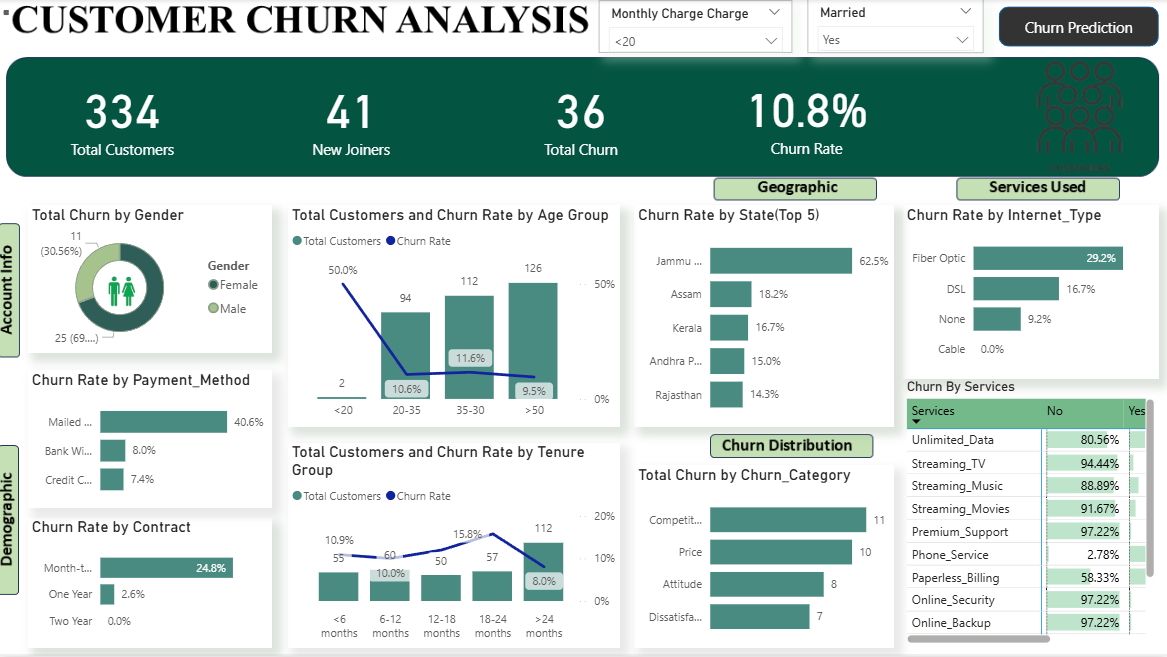

What the dashboard file says about the page in this screenshot:
{"tool":"powerbi","page":{"name":"Summary","canvas":[1280,720],"ordinal":0},"visuals":[{"type":"image","box":[86.3,293,95.8,54.8],"z":0},{"type":"card","fields":{"Values":["TBL_Measures.Total Churn"]},"box":[514.8,65.7,243.7,123.2],"z":1000},{"type":"card","fields":{"Values":["TBL_Measures.New Joiners"]},"box":[254.7,65.7,260.2,123.2],"z":2000},{"type":"actionButton","box":[0,0,13.7,30.1],"z":3000},{"type":"card","fields":{"Values":["TBL_Measures.Churn Rate"]},"box":[758.6,65.7,250.6,121.9],"z":4000},{"type":"donutChart","fields":{"Category":["prod_Churn.Gender"],"Y":["TBL_Measures.Total Churn"]},"box":[30.1,225.9,268.4,161.6],"z":5000},{"type":"card","fields":{"Values":["TBL_Measures.Total Customers"]},"box":[13.7,65.7,241,123.2],"z":6000},{"type":"clusteredBarChart","fields":{"Category":["prod_Churn.Payment_Method"],"Y":["TBL_Measures.Churn Rate"]},"box":[30.1,406.7,268.4,150.6],"z":7000},{"type":"clusteredBarChart","fields":{"Y":["TBL_Measures.Churn Rate"],"Category":["prod_Churn.Contract"]},"box":[30.1,568.3,268.4,142.4],"z":8000},{"type":"lineStackedColumnComboChart","fields":{"Y":["TBL_Measures.Total Customers"],"Category":["mapping_AgeGrp.Age Group"],"Y2":["TBL_Measures.Churn Rate"]},"box":[314.9,225.9,364.2,242.4],"z":9000},{"type":"lineStackedColumnComboChart","fields":{"Y":["TBL_Measures.Total Customers"],"Category":["mapping_TenureGrp.Tenure Group"],"Y2":["TBL_Measures.Churn Rate"]},"box":[314.9,486.1,364.2,224.6],"z":10000},{"type":"clusteredBarChart","title":"Churn Rate by State(Top 5)","fields":{"Category":["prod_Churn.State"],"Y":["TBL_Measures.Churn Rate"]},"box":[694.2,225.9,284.8,242.4],"z":11000},{"type":"clusteredBarChart","fields":{"Category":["prod_Churn.Churn_Category"],"Y":["TBL_Measures.Total Churn"]},"box":[694.2,510.7,284.8,199.9],"z":12000},{"type":"clusteredBarChart","fields":{"Category":["prod_Churn.Internet_Type"],"Y":["TBL_Measures.Churn Rate"]},"box":[988.6,225.9,280.7,190.3],"z":13000},{"type":"pivotTable","title":"Churn By Services","fields":{"Rows":["Prod_Services.Services"],"Columns":["Prod_Services.Status"],"Values":["Sum(Prod_Services.Churn_Status)"]},"box":[988.6,416.3,280.7,294.4],"z":14000},{"type":"slicer","fields":{"Values":["prod_Churn.Monthly Charge Status"]},"box":[655.9,1.4,212.2,57.5],"z":15000},{"type":"slicer","fields":{"Values":["prod_Churn.Married"]},"box":[884.6,0,193.1,58.9],"z":16000},{"type":"shape","box":[1094.1,8.2,175.3,43.8],"z":17000}]}

Visuals, with their boxes in screenshot pixels (x1, y1, x2, y2), scaled from the page's 1280x720 canvas onto the 1167x657 screenshot:
image: BBox(79, 267, 166, 317)
card - TBL_Measures.Total Churn: BBox(469, 60, 692, 172)
card - TBL_Measures.New Joiners: BBox(232, 60, 469, 172)
actionButton: BBox(0, 0, 12, 27)
card - TBL_Measures.Churn Rate: BBox(692, 60, 920, 171)
donutChart - prod_Churn.Gender x TBL_Measures.Total Churn: BBox(27, 206, 272, 354)
card - TBL_Measures.Total Customers: BBox(12, 60, 232, 172)
clusteredBarChart - prod_Churn.Payment_Method x TBL_Measures.Churn Rate: BBox(27, 371, 272, 509)
clusteredBarChart - TBL_Measures.Churn Rate x prod_Churn.Contract: BBox(27, 519, 272, 649)
lineStackedColumnComboChart - TBL_Measures.Total Customers x mapping_AgeGrp.Age Group: BBox(287, 206, 619, 427)
lineStackedColumnComboChart - TBL_Measures.Total Customers x mapping_TenureGrp.Tenure Group: BBox(287, 444, 619, 649)
"Churn Rate by State(Top 5)" clusteredBarChart: BBox(633, 206, 893, 427)
clusteredBarChart - prod_Churn.Churn_Category x TBL_Measures.Total Churn: BBox(633, 466, 893, 648)
clusteredBarChart - prod_Churn.Internet_Type x TBL_Measures.Churn Rate: BBox(901, 206, 1157, 380)
"Churn By Services" pivotTable: BBox(901, 380, 1157, 649)
slicer - prod_Churn.Monthly Charge Status: BBox(598, 1, 791, 54)
slicer - prod_Churn.Married: BBox(807, 0, 983, 54)
shape: BBox(998, 7, 1157, 47)
